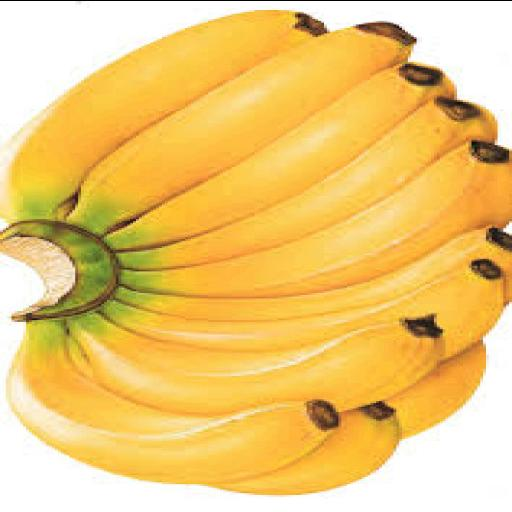banana: (70, 22, 416, 230), (0, 10, 326, 219), (119, 96, 497, 268), (110, 64, 451, 248), (119, 139, 511, 295), (9, 320, 338, 483), (102, 258, 503, 355), (70, 314, 442, 412), (116, 228, 511, 320), (215, 404, 399, 493), (385, 341, 485, 438)
